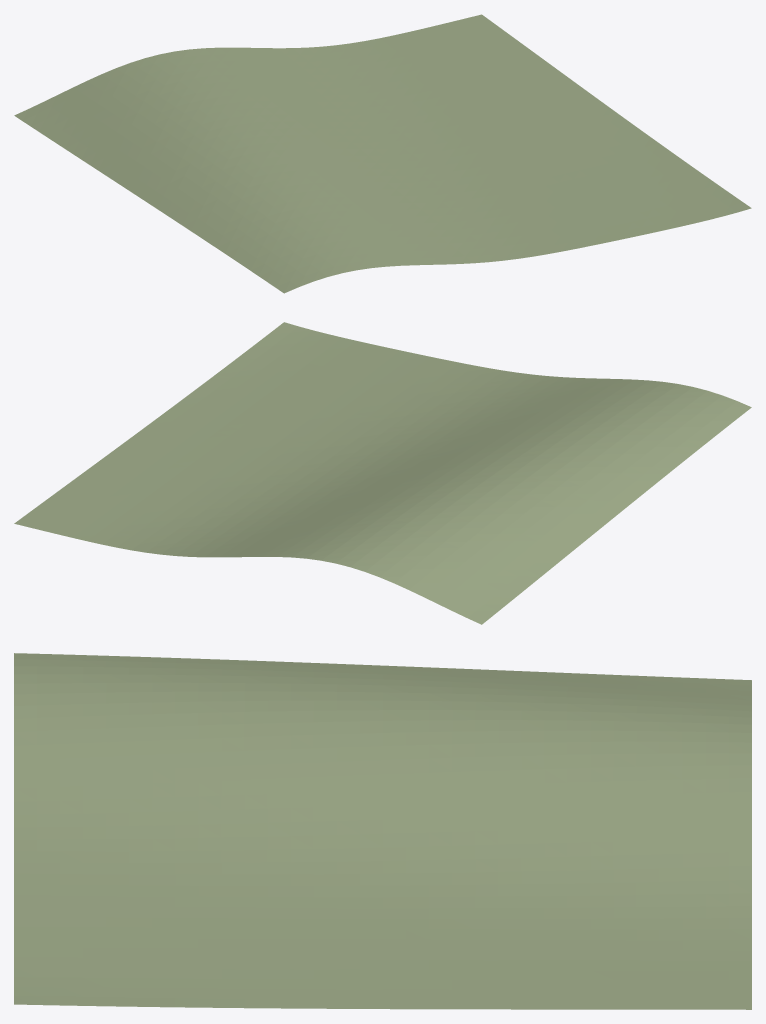
Rendered from desert-5-4.glb.
3 renders of one model, top to bottom at view 1: azimuth 30°, elevation 25°; view 2: azimuth 150°, elevation 25°; view 3: azimuth 270°, elevation 25°, orthographic. The views are drawn at different scales.
Visible parts, largest first — view 1: desert-5-4; view 2: desert-5-4; view 3: desert-5-4.
Part boxes in pixels (x1=…): desert-5-4: x1=14, y1=14, x2=751, y2=293; desert-5-4: x1=14, y1=322, x2=751, y2=624; desert-5-4: x1=14, y1=653, x2=751, y2=1009.
Size of the model in its own units: 512 by 42.98 by 512.
